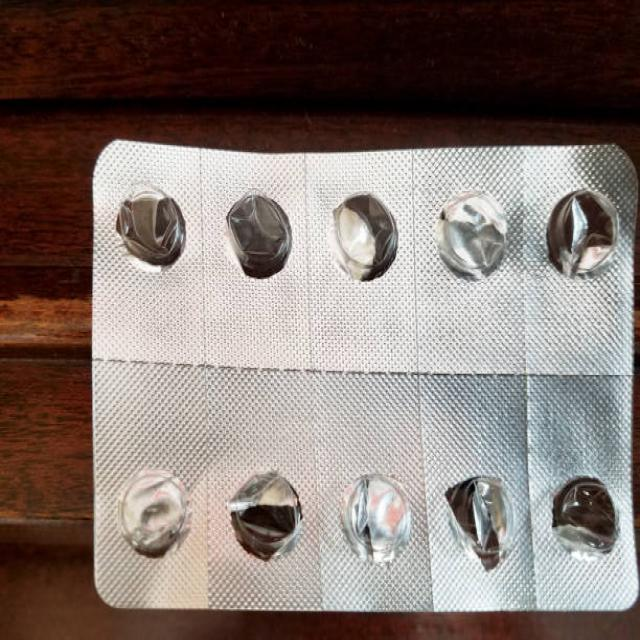Empty: (538, 449, 628, 574), (331, 458, 421, 570), (320, 186, 411, 294), (112, 448, 198, 562), (535, 176, 625, 284), (427, 187, 521, 290), (211, 183, 297, 290), (224, 462, 310, 566), (440, 458, 516, 570), (106, 170, 188, 272)
